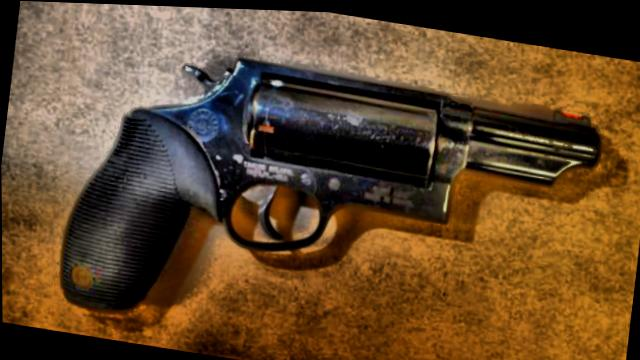pistol: (57, 21, 607, 360)
